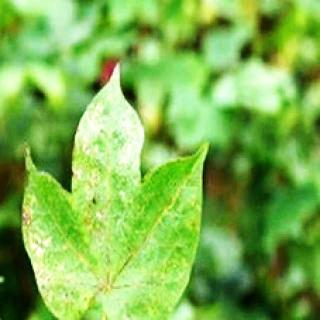grey mildew: (18, 64, 206, 316)
